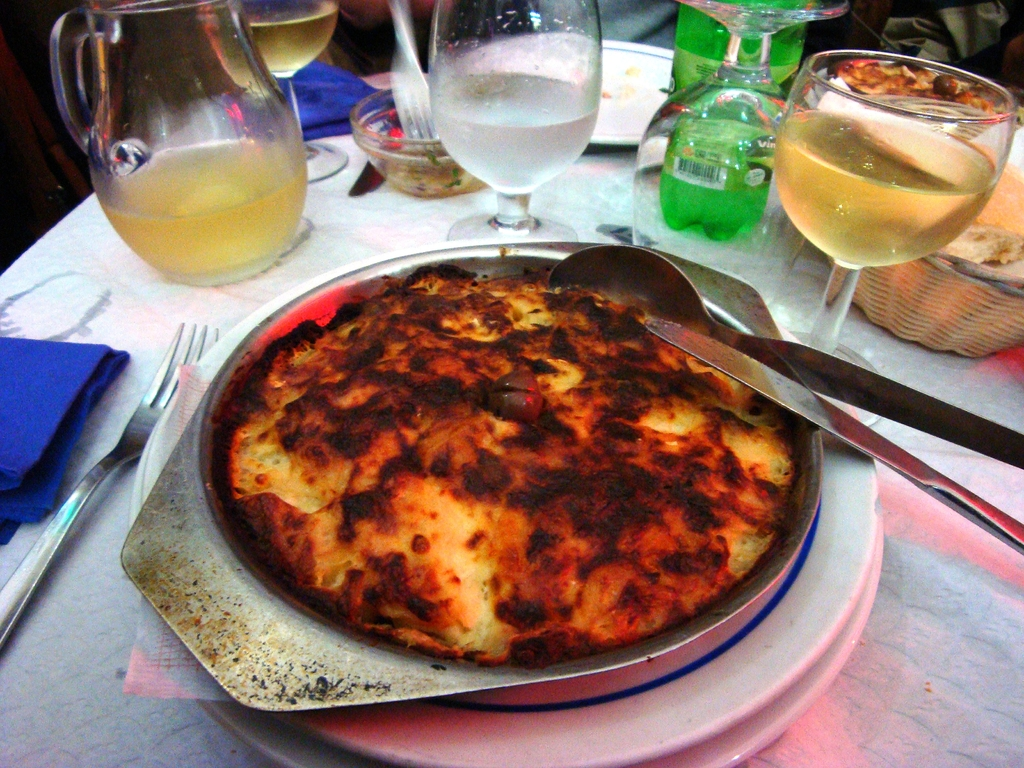Pizza: (218, 252, 811, 692)
